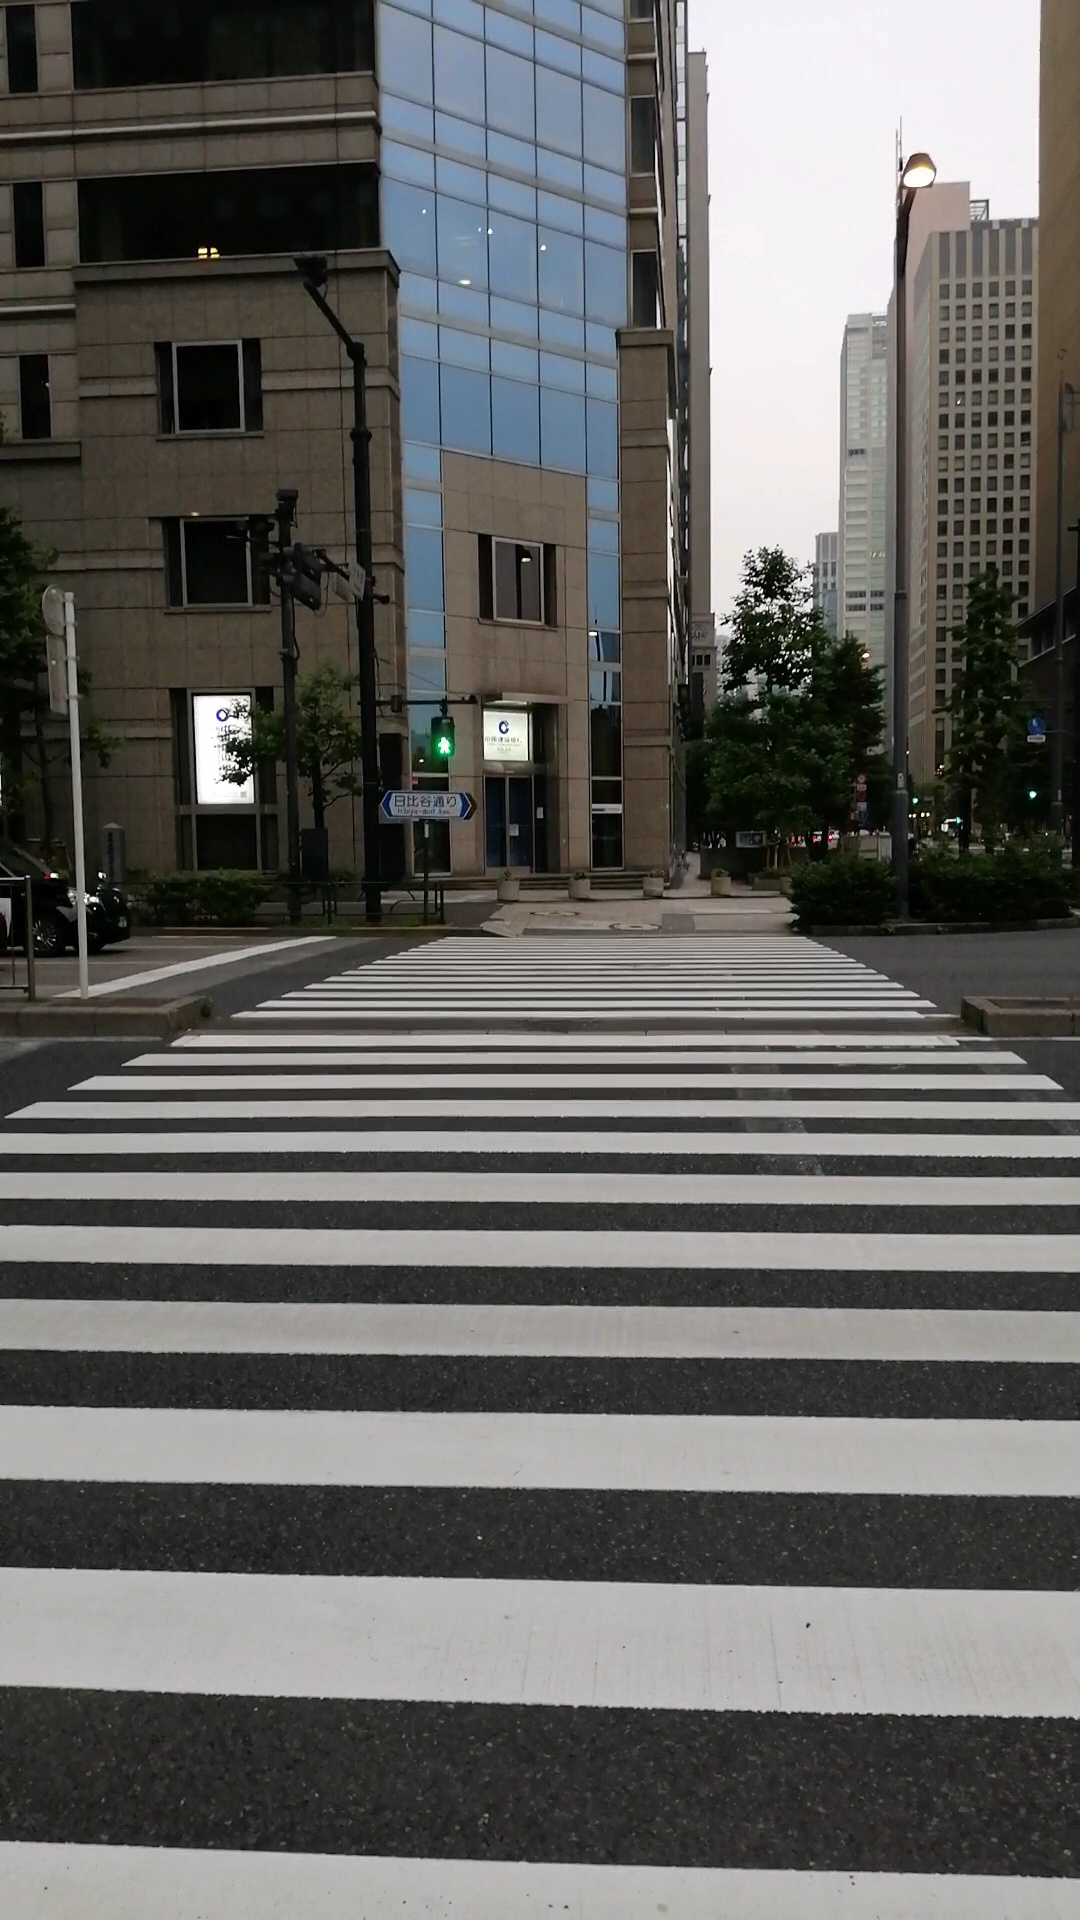green: (427, 713, 456, 761)
